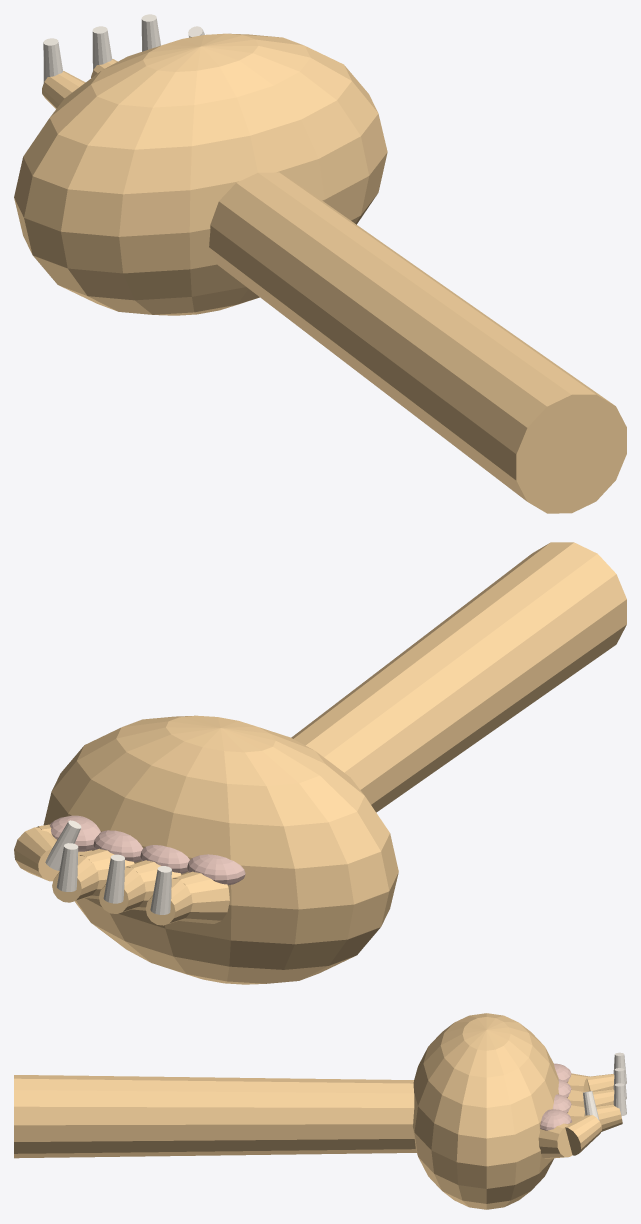
The model's file is paw_kawaii.glb.
3 renders of one model, top to bottom at view 1: azimuth 30°, elevation 25°; view 2: azimuth 150°, elevation 25°; view 3: azimuth 270°, elevation 25°, orthographic. The views are drawn at different scales.
Visible parts, largest first — view 1: Paw; view 2: Paw; view 3: Paw.
Boxes of the visible parts, x1=… form: Paw: x1=14, y1=14, x2=626, y2=513; Paw: x1=14, y1=542, x2=626, y2=984; Paw: x1=14, y1=1013, x2=626, y2=1209.
Bounding box in the file's own units: 0.0936 × 0.0648 × 0.2205.
